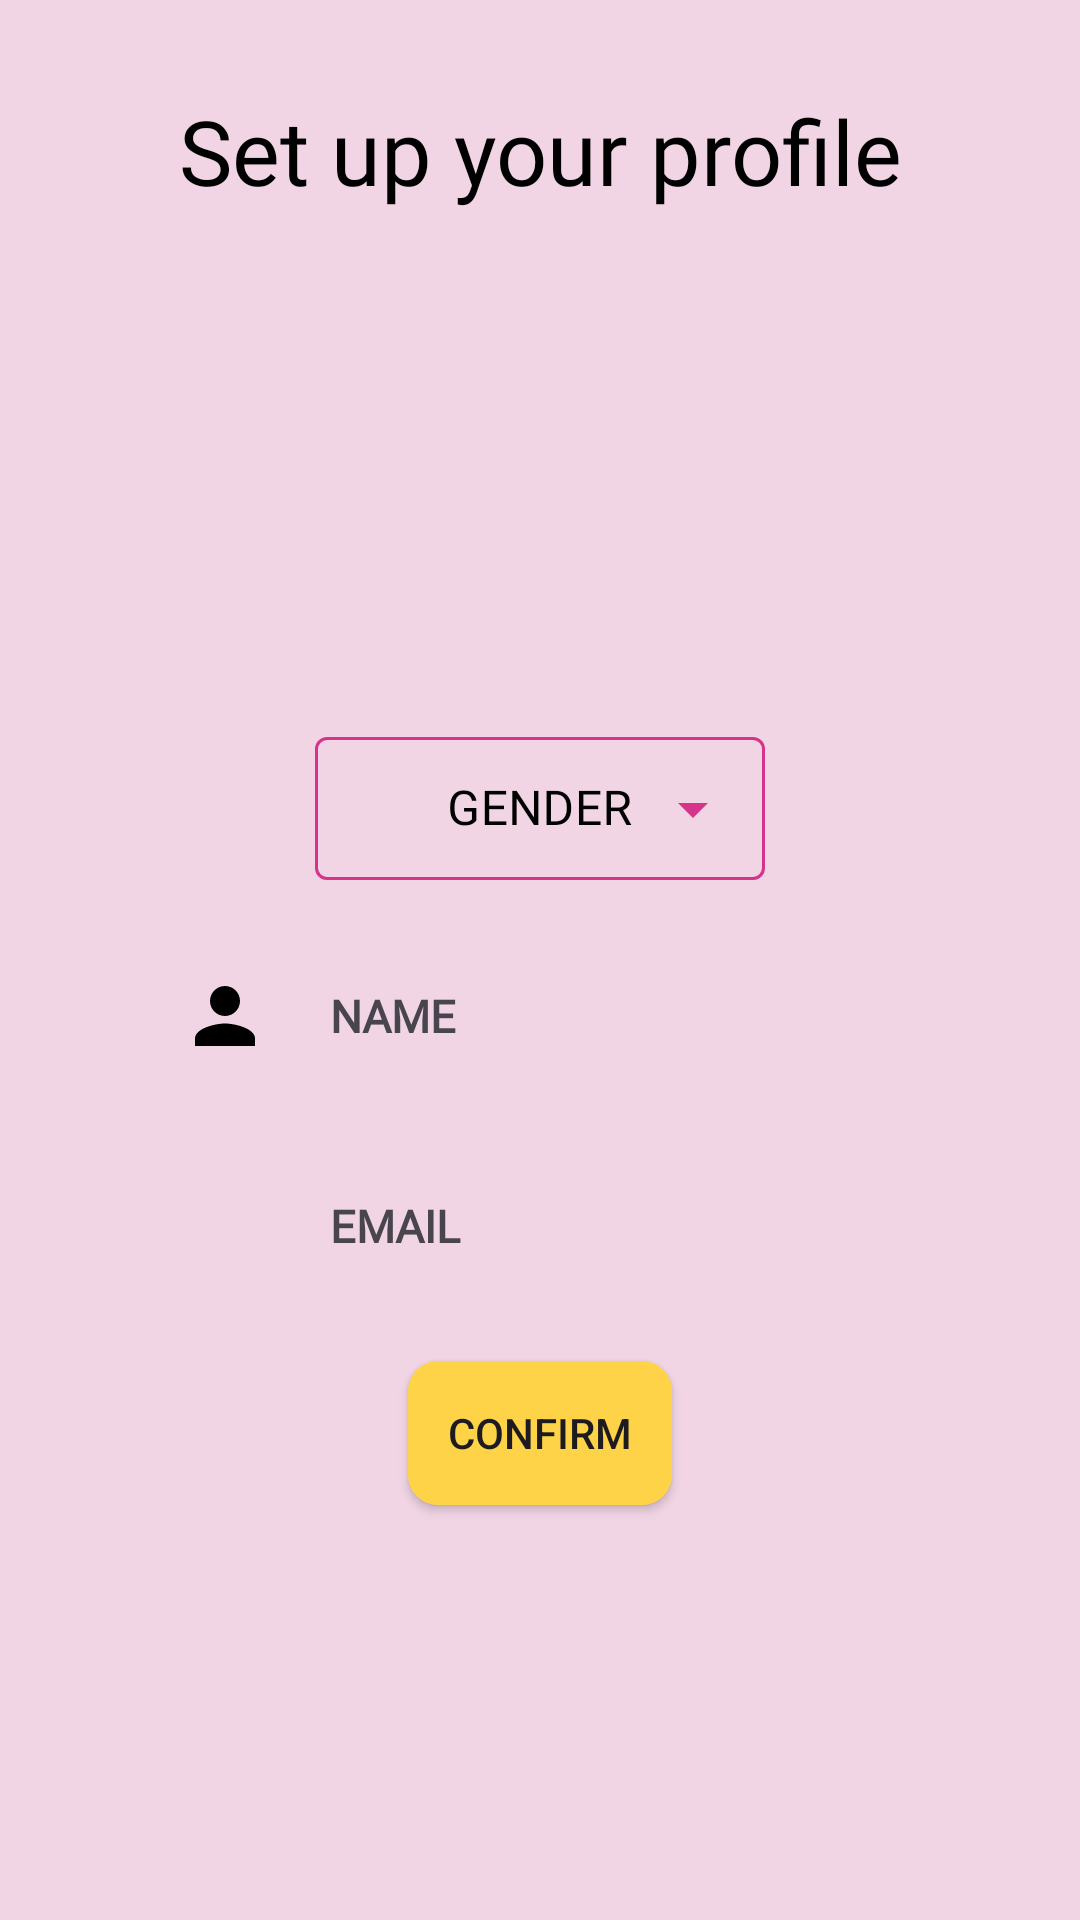

Where icons sit on this 1080 × 1920 app screen, as rect(x1, y1, x2, y2):
person: rect(195, 986, 255, 1046)
